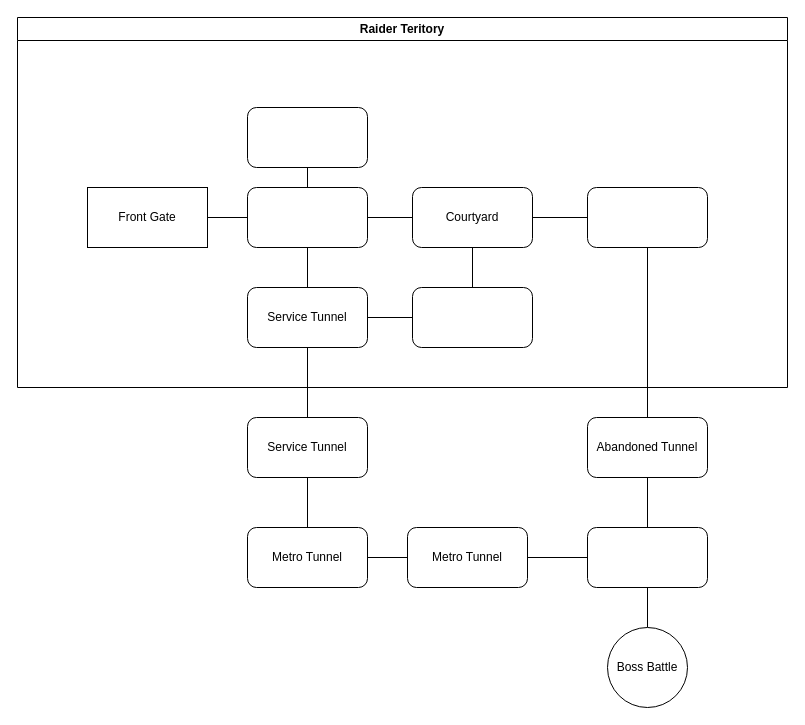
This 805x725 diagram has some shape labels left out. The centre of each missing label's shape, as x and y in pixels:
Area under I-288: [307,217]
Area Under I-88: [647,217]
Destroyed Metro Station: [647,557]
Raider Barracks: [307,137]
Raider Mess Hall: [472,317]
